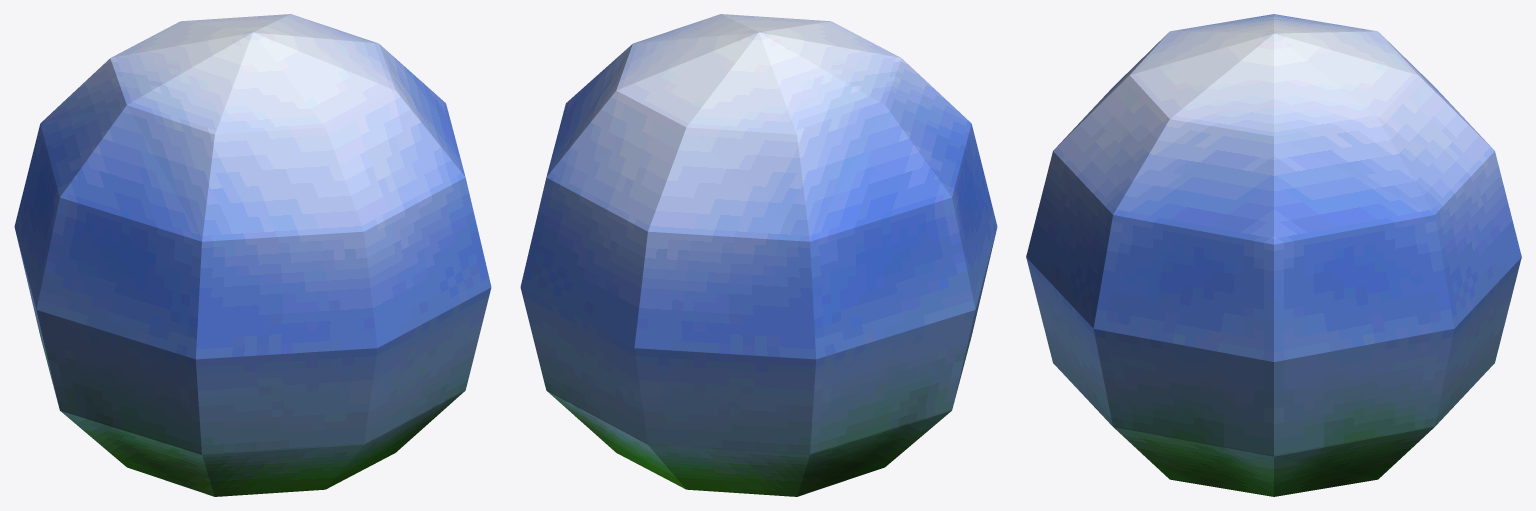
File: water_bomb.glb
The picture shows the model from 3 angles, left to right: view 1: azimuth 30°, elevation 25°; view 2: azimuth 150°, elevation 25°; view 3: azimuth 270°, elevation 25°; orthographic projection.
Parts seen in each view (by area): view 1: water_bomb; view 2: water_bomb; view 3: water_bomb.
Part boxes in pixels (<box>): water_bomb: <box>14,14,491,496</box>; water_bomb: <box>520,14,997,496</box>; water_bomb: <box>1026,14,1521,496</box>.
Size of the model in its own units: 7.58 by 7.5 by 7.55.
1 material, 1 textured.
